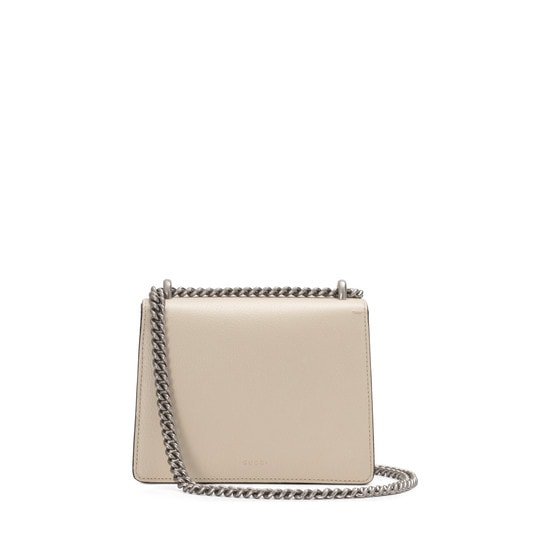Gucci: (131, 265, 425, 500)
